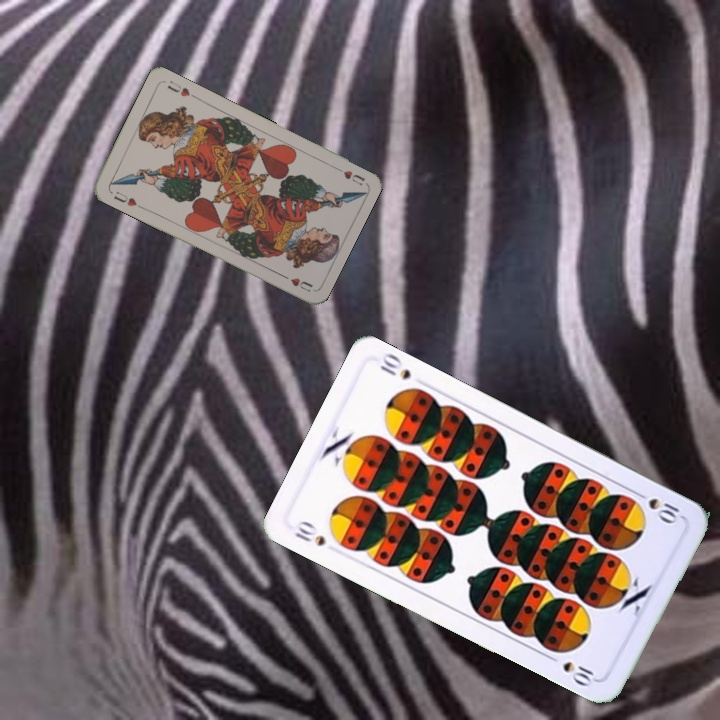HU: (329, 162, 367, 188), (109, 187, 139, 209)
S10: (627, 487, 685, 527), (290, 516, 328, 549)
